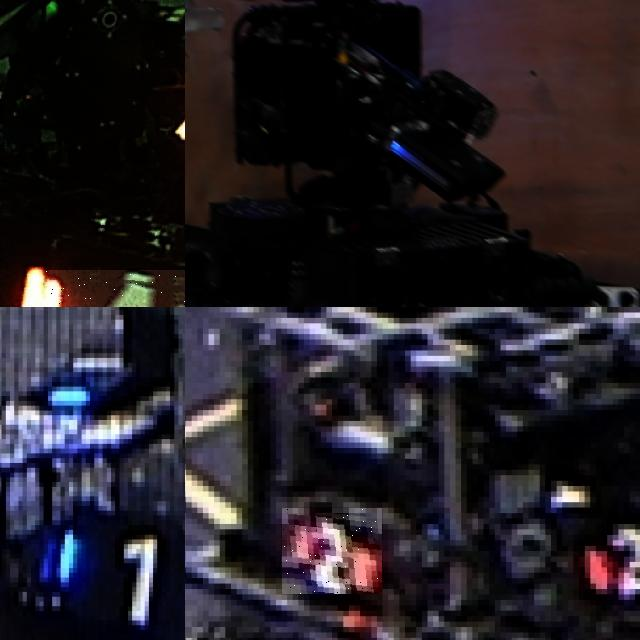B1: (47, 529, 185, 640), (44, 329, 132, 420)
R2: (282, 508, 382, 594), (579, 518, 640, 599)
R4: (33, 269, 185, 307)
